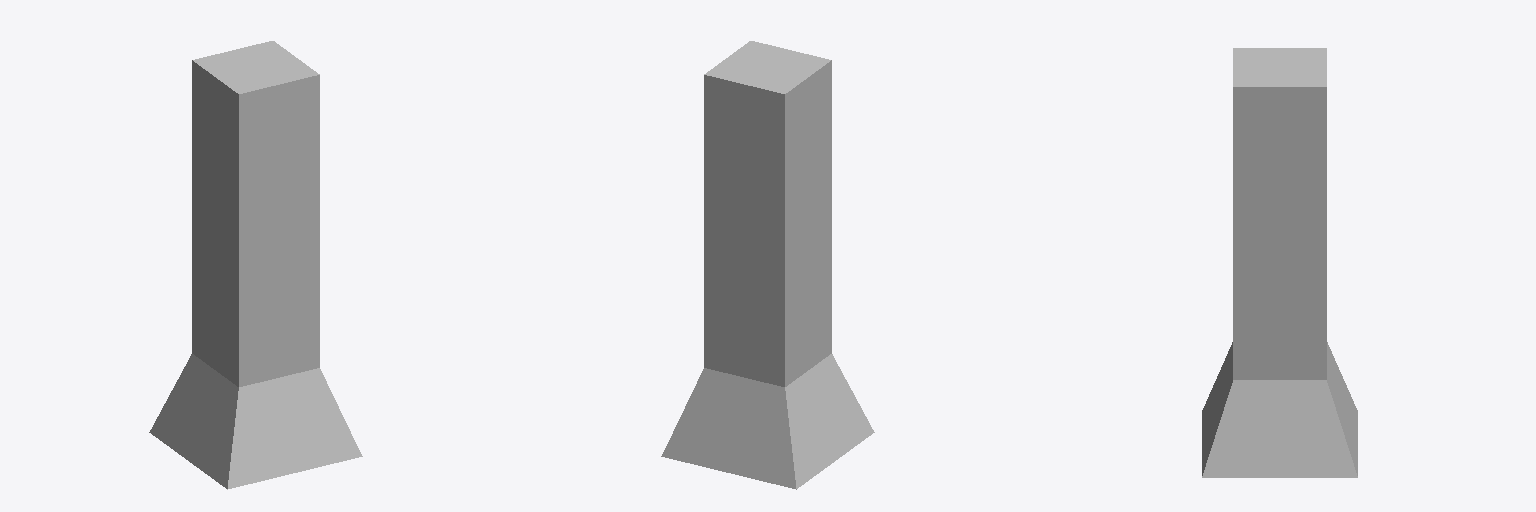
The model's file is petrolstation.obj.
The picture shows the model from 3 angles: view 1: azimuth 30°, elevation 25°; view 2: azimuth 150°, elevation 25°; view 3: azimuth 270°, elevation 25°; orthographic projection.
Size of the model in its own units: 2.57 by 6.84 by 2.57.